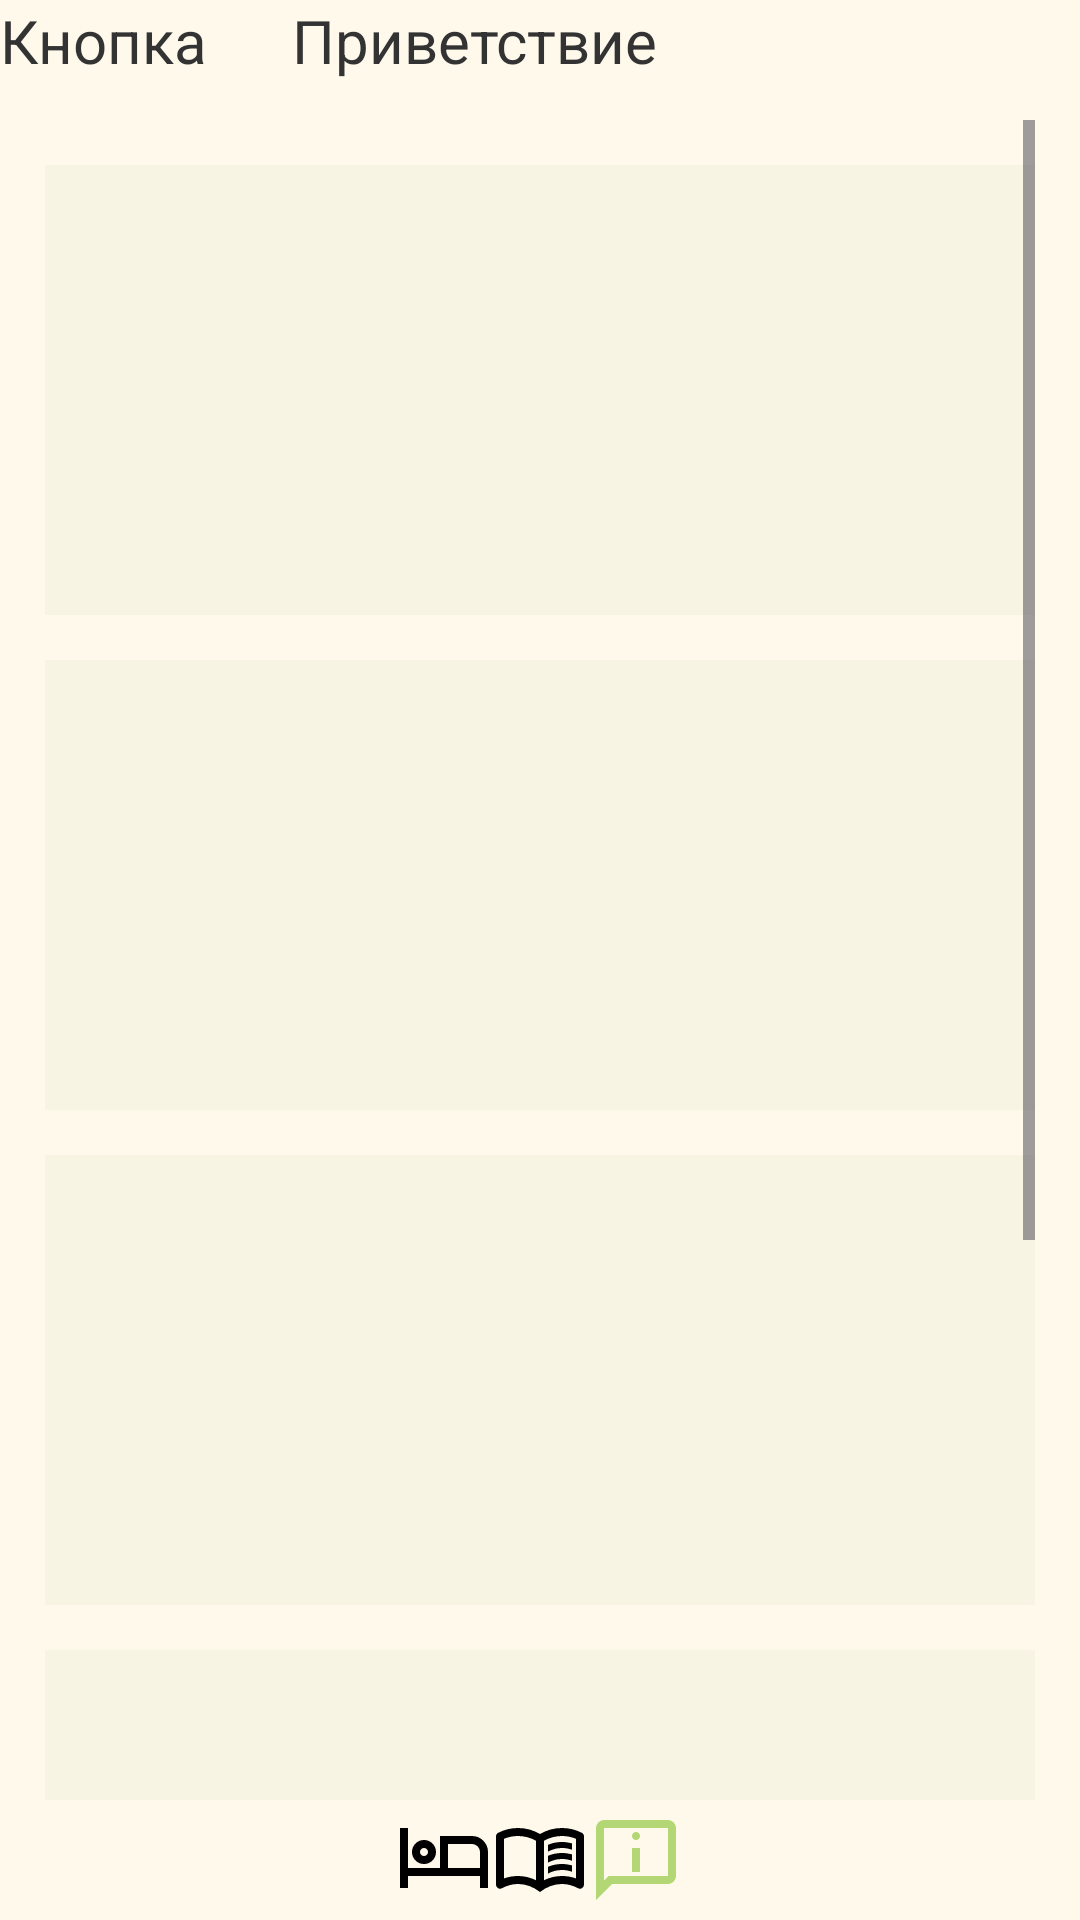

Icon bounding boxes for this 1080 × 1920 phone screenshot, format bbox=(x1, y1, x2, y2):
assistant: bbox=(596, 1820, 676, 1900)
diary: bbox=(496, 1828, 584, 1892)
sleep: bbox=(400, 1828, 488, 1888)
